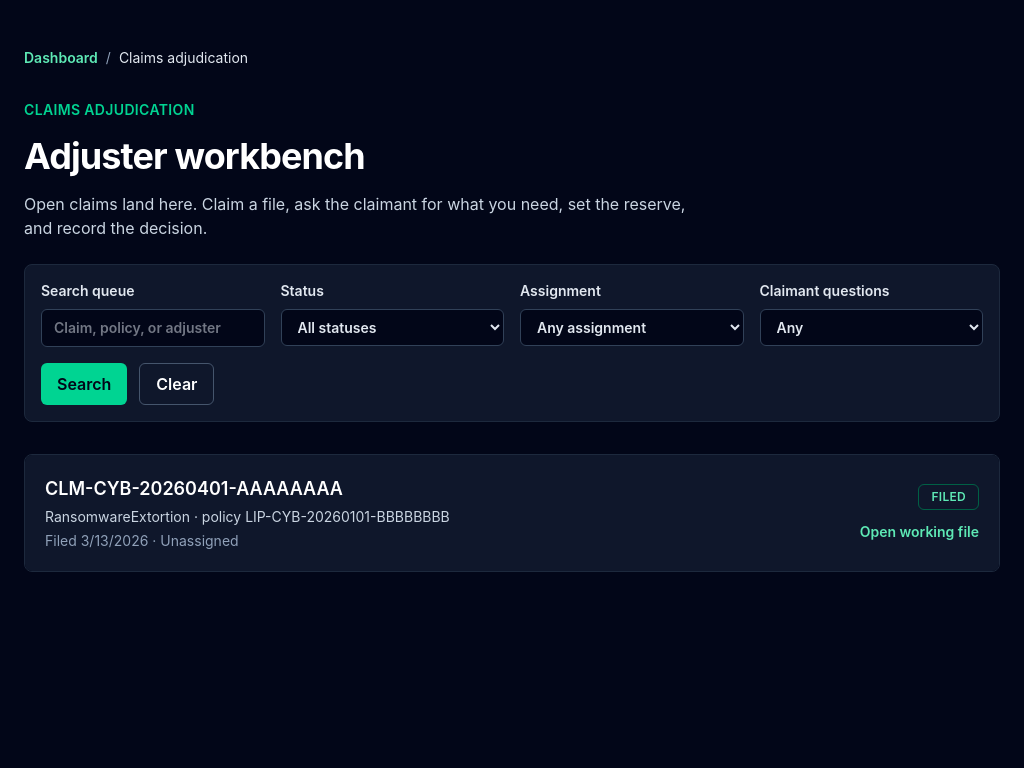
Test case: ClaimsAdjudicationPage › shows the losing adjuster the conflict and refetches the truth
Click the button with aria-label "open claim CLM-CYB-20260401-AAAAAAAA".
click(919, 532)  # box [860,522,979,542]
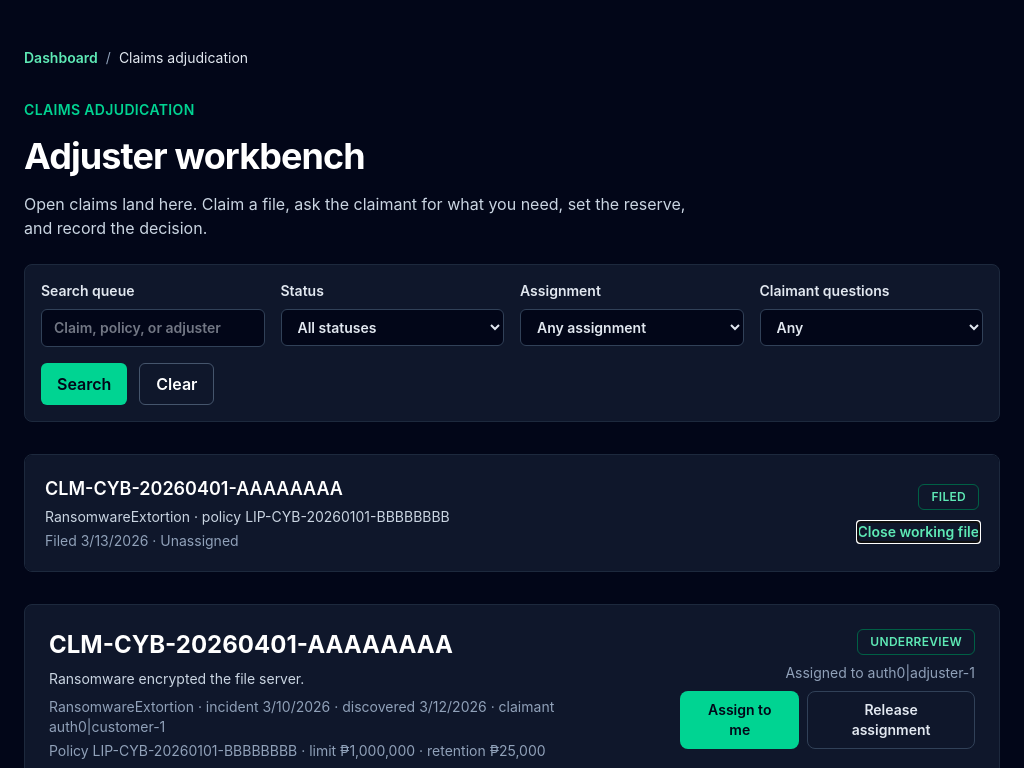
Click the button "Assign to me".
click(740, 720)  # box [680,691,799,749]
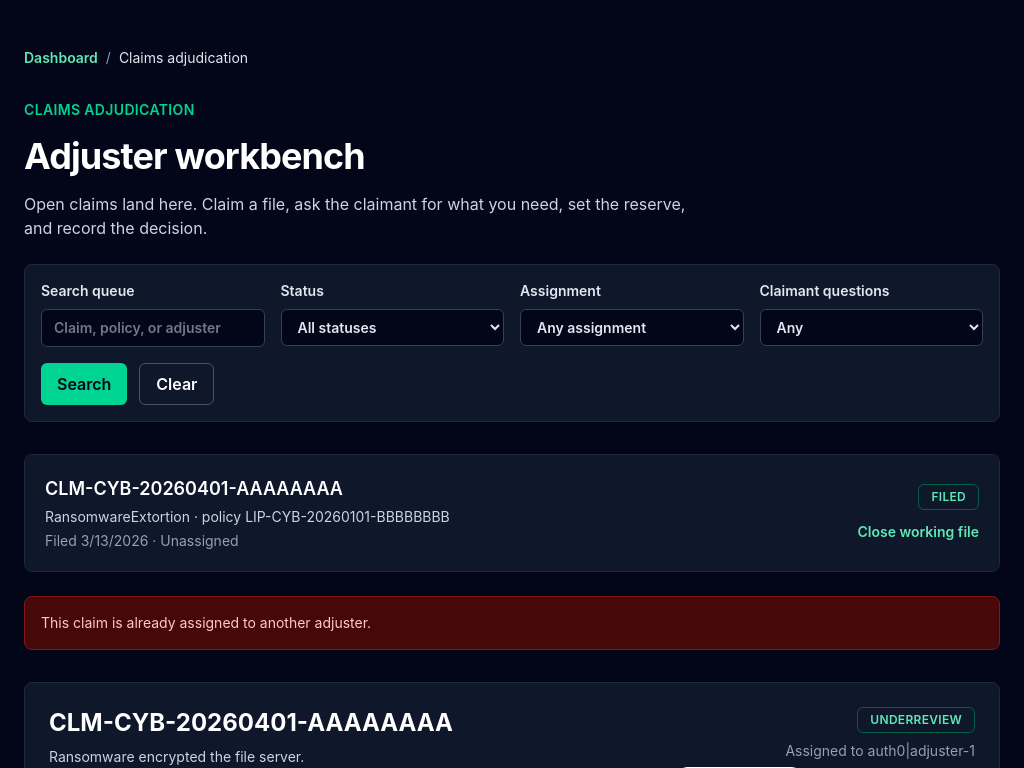
Check: the text "This claim is already assigned to another adjuster." is shown, box [41,614,371,631]
